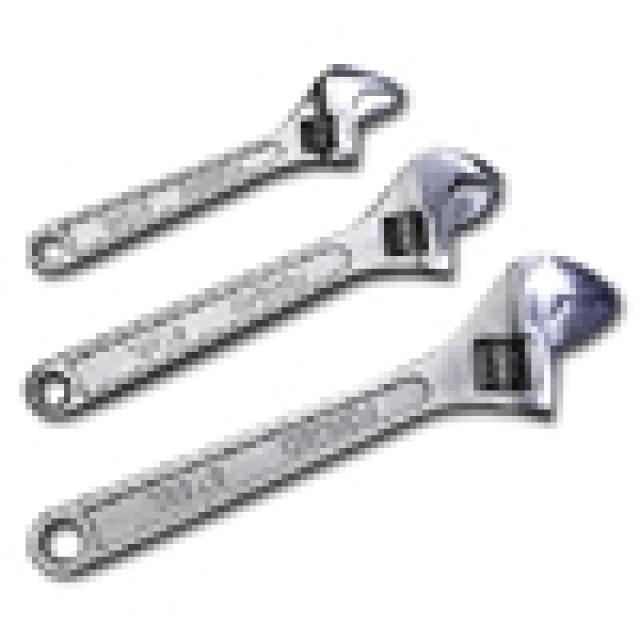wrench: (0, 243, 621, 467), (21, 50, 452, 217)
